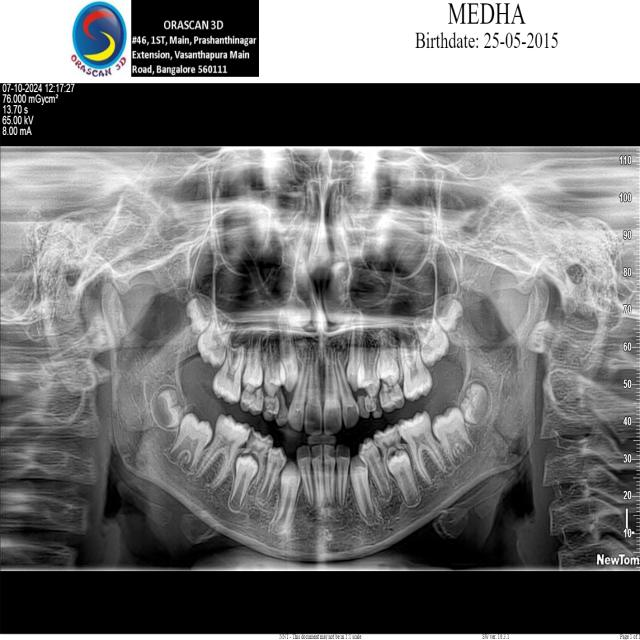Premolars: (353, 434, 393, 501)
